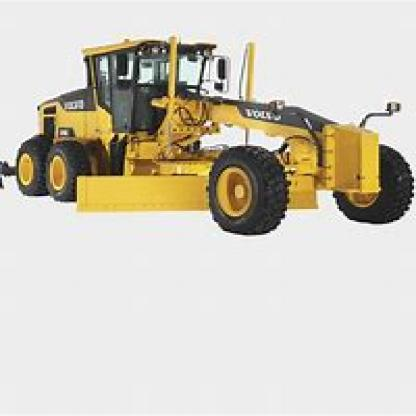bull_dozer/loader/grader: (2, 31, 414, 244)
